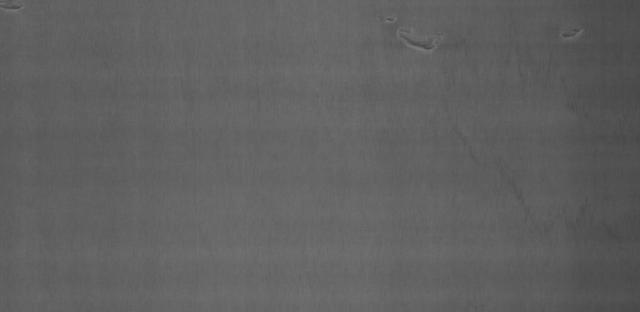rolled_pit: (388, 6, 441, 69), (546, 23, 590, 51)
